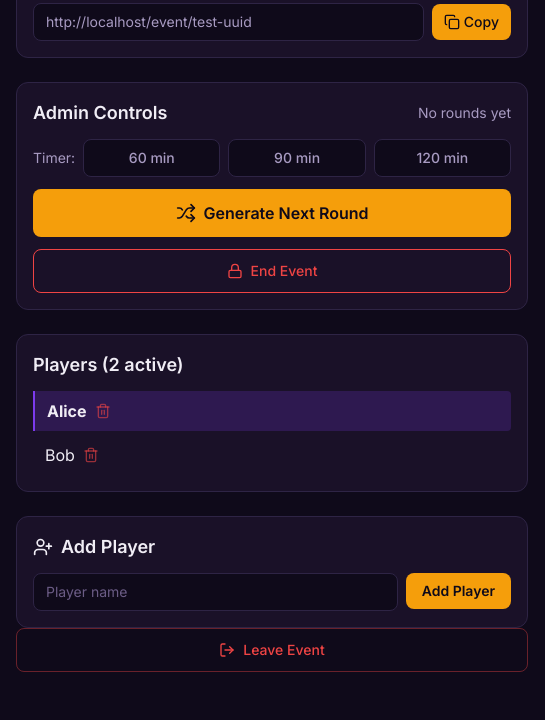
Test: Admin Add Player › admin can add a player successfully
(page scrolled)
// Type a name and submit
Type "Dave" into the field with test id "add-player-name-input". click: (216, 592)
box: [33,573,398,611]
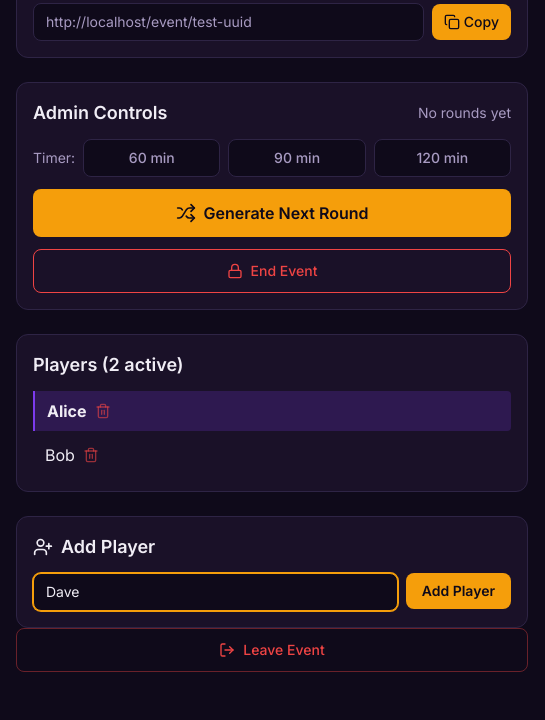
Click the button with test id "add-player-submit-btn". click: (459, 591)
box: [406,573,511,609]
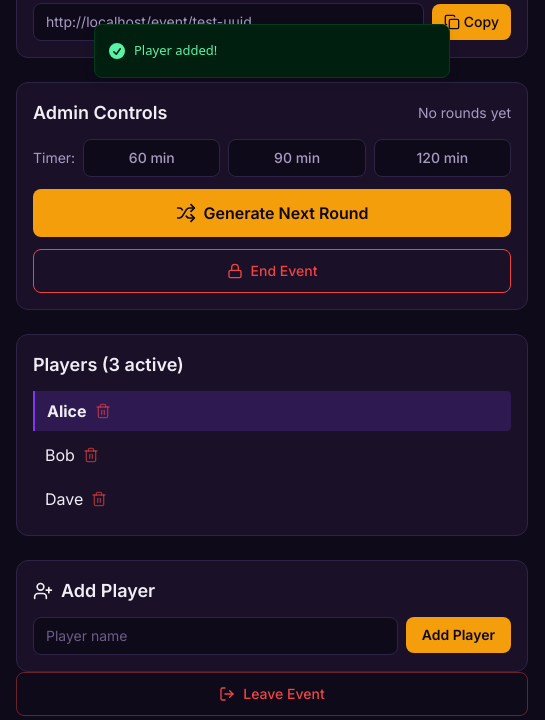
Result: the text with test id "player-list" reads "Dave" at [45,489,83,509]
